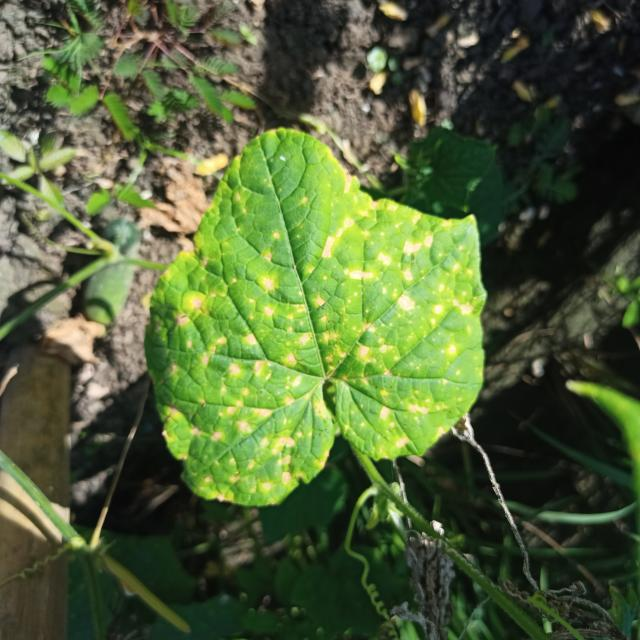disease_cucumber: (156, 148, 477, 499)
